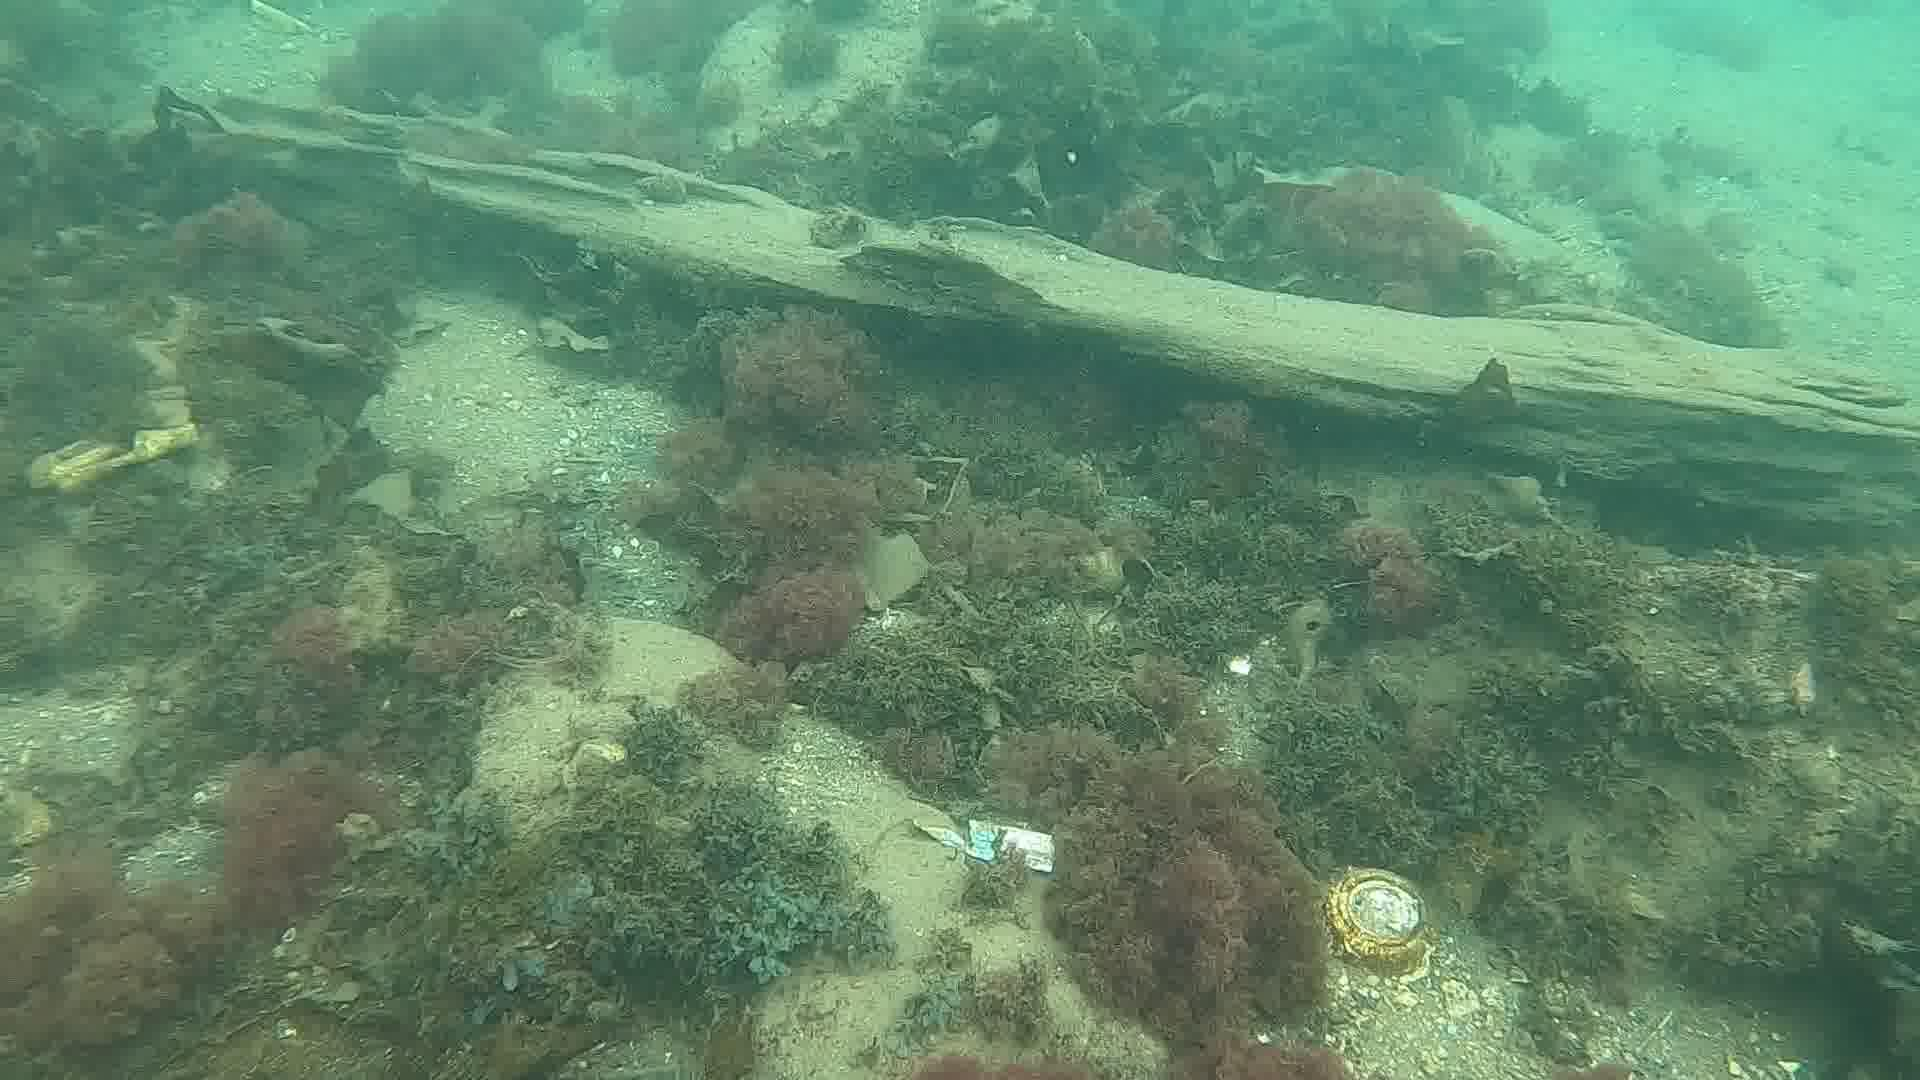wood: (150, 82, 1920, 546)
